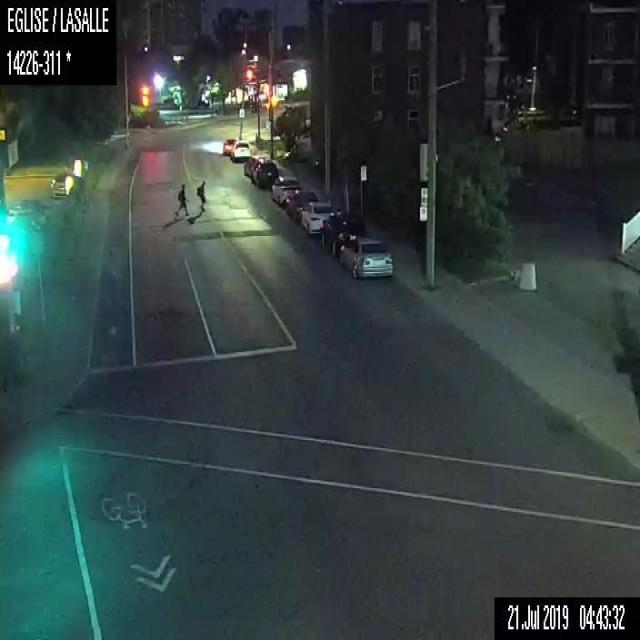pedestrian: (175, 182, 189, 218), (196, 180, 206, 212)
vehicle: (338, 235, 394, 280), (320, 210, 364, 256), (298, 200, 334, 235), (284, 188, 316, 219), (269, 177, 299, 206), (250, 156, 277, 186), (230, 140, 251, 161), (242, 154, 262, 176), (49, 171, 66, 196), (222, 136, 236, 155)
